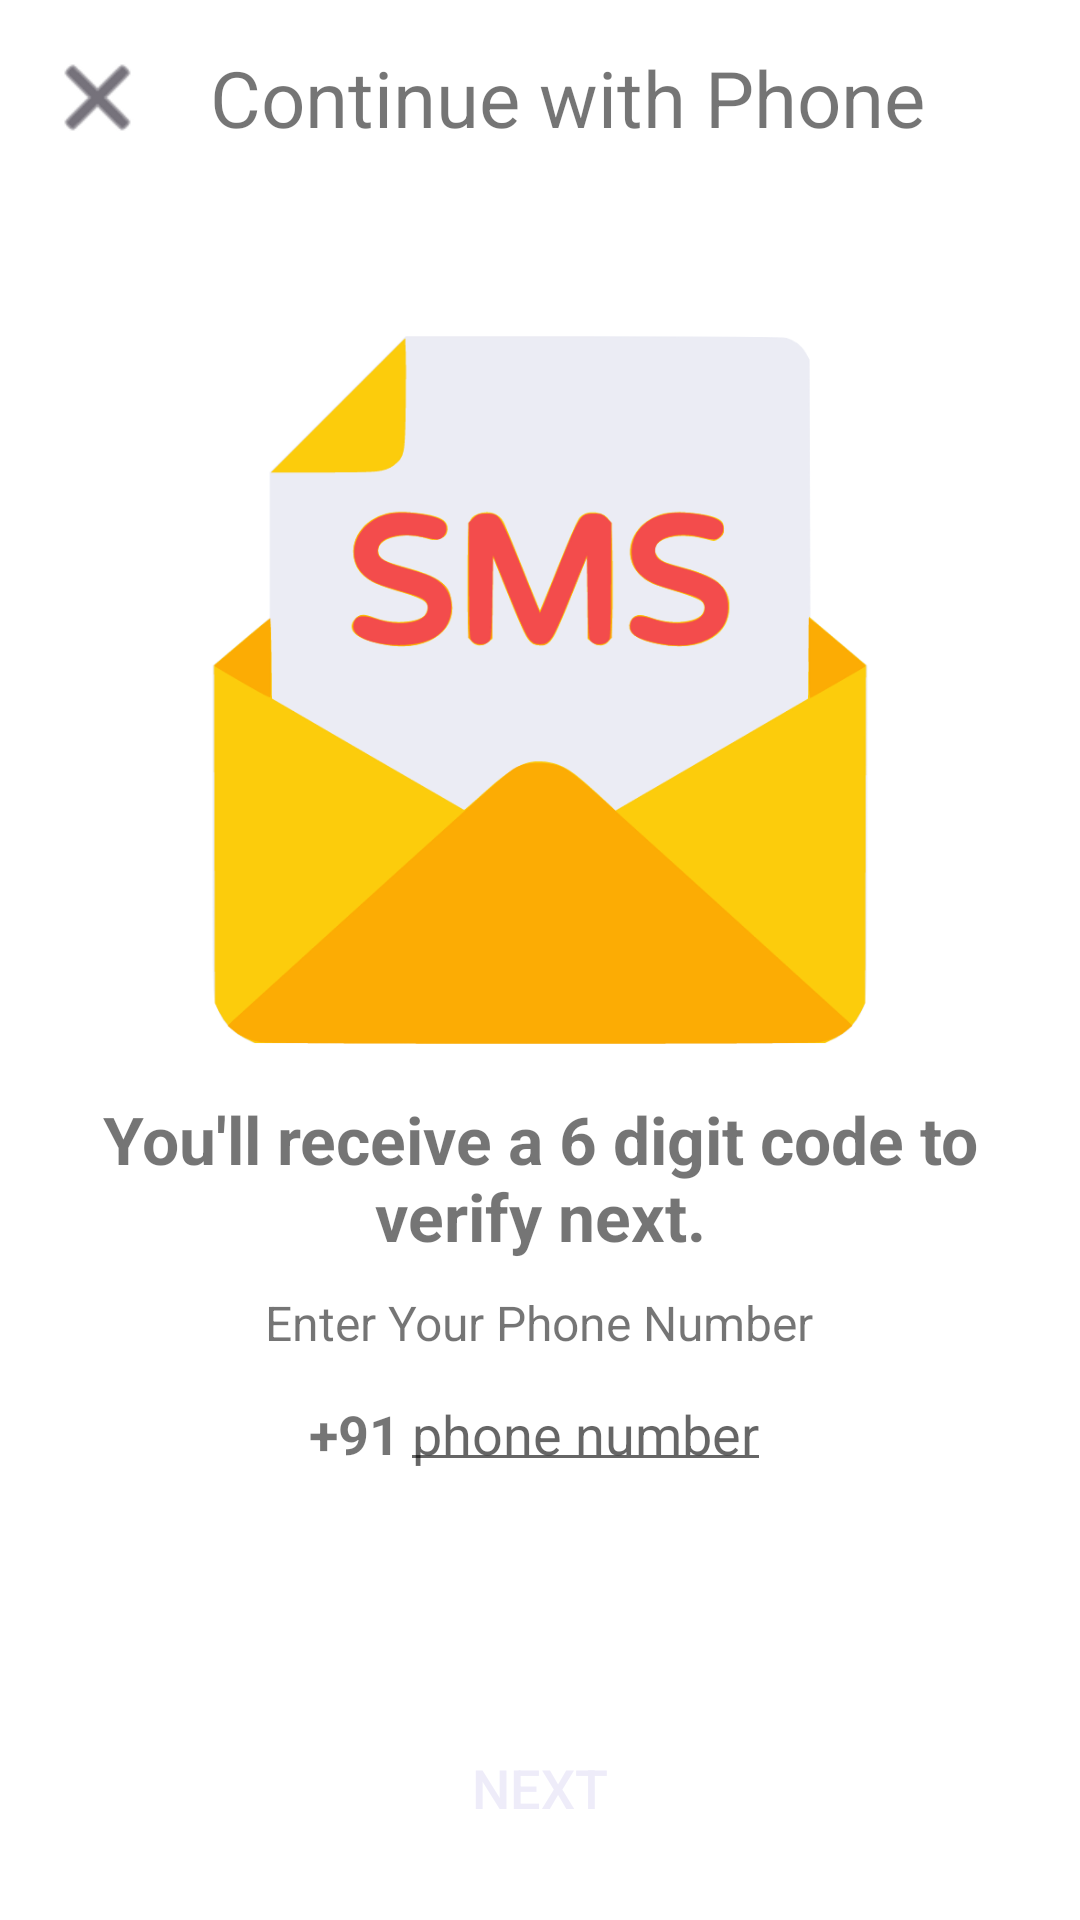

Screen size 1080px×1920px. Icon name, then its box in pixels as (x1, y1, x2, y2):
close clear cancel: (65, 65, 130, 130)
